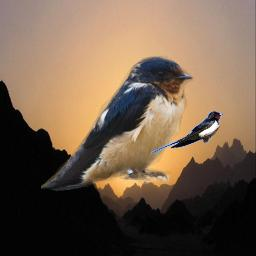Swallow: (41, 55, 195, 191), (150, 111, 223, 154)
